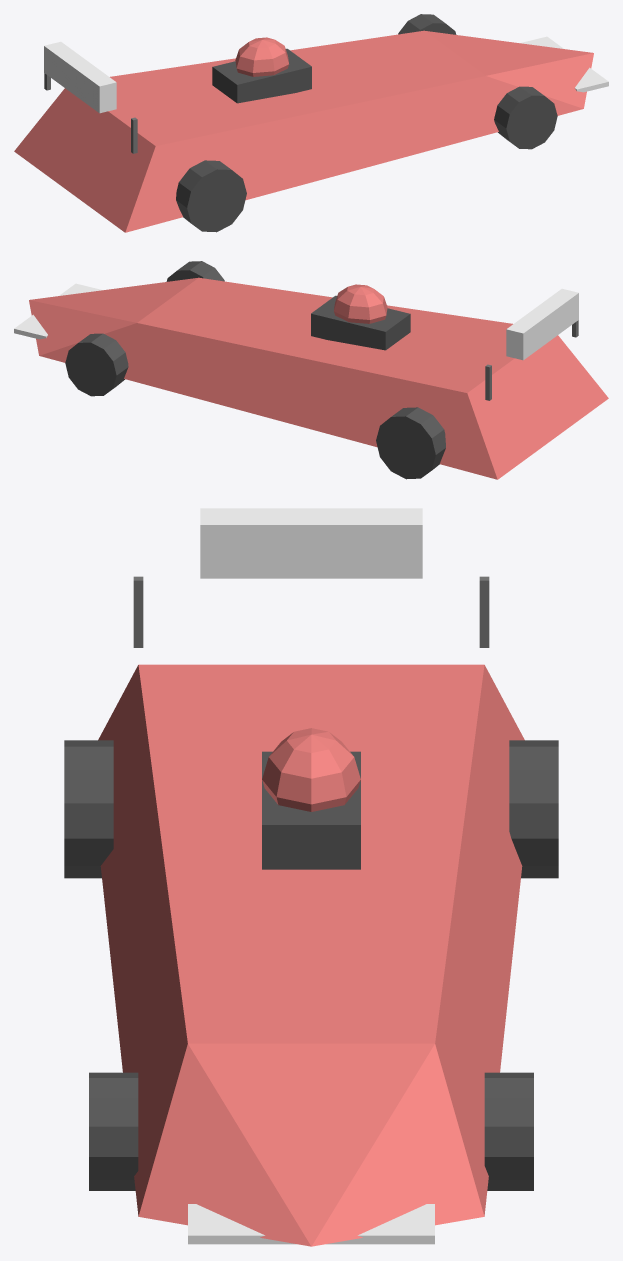
The model's file is car_f1.glb.
The picture shows the model from 3 angles, top to bottom: view 1: azimuth 30°, elevation 25°; view 2: azimuth 150°, elevation 25°; view 3: azimuth 270°, elevation 25°; orthographic projection. The views are drawn at different scales.
Visible parts, largest first — view 1: car_f1; view 2: car_f1; view 3: car_f1.
Boxes of the visible parts, x1,y1,x2,y2 form: car_f1: (14,14,608,232); car_f1: (14,261,608,479); car_f1: (64,508,558,1246).
Size of the model in its own units: 2.45 by 0.63 by 1.
